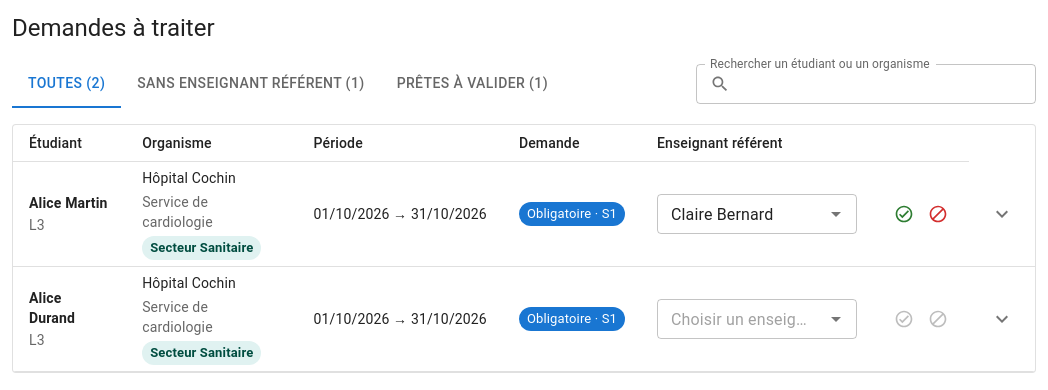
Test: StageRequestsPage — issue #146 › the search applies within the active tab and the counts stay those of the whole list
The image size is (1048, 390).
Expected: the text "Alice Martin" is shown, [29,193,108,213]
Click the tab "Sans enseignant référent (1)": (251, 84) [121,60,381,108]
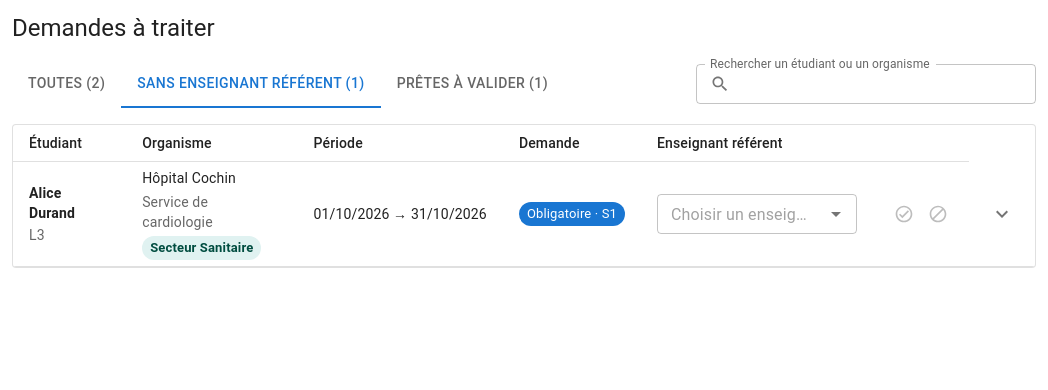
In the search field labelled "Rechercher un étudiant ou un organisme": (887, 84) [738,64,1036,104], type "martin"
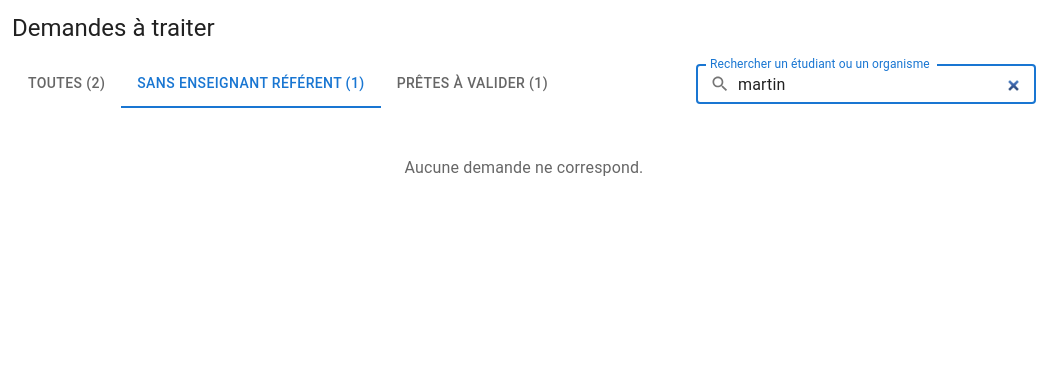
Expected: the tab "Toutes (2)" is shown, [12,60,121,108]
Expected: the text "Aucune demande ne correspond." is shown, [404,158,644,177]
